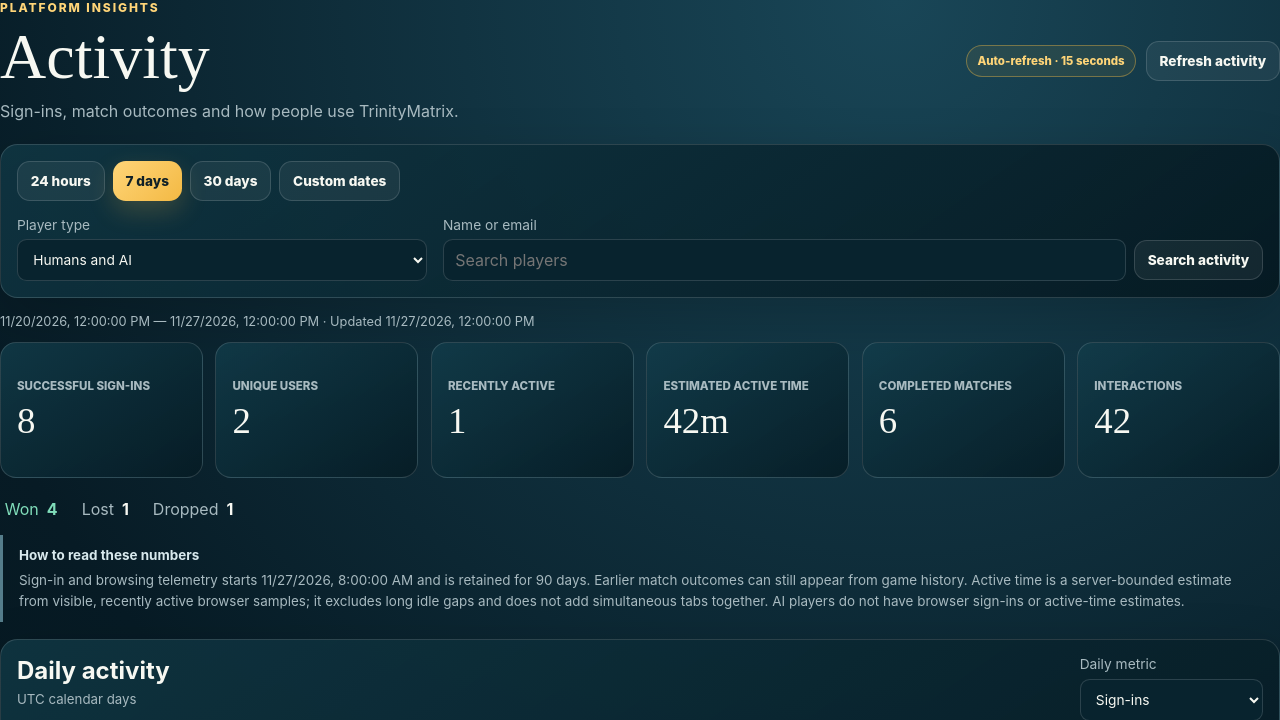
Test: administrator Activity panel › clears previously visible activity if administrator access expires
Click the button "Refresh activity" at (1213,61), box [1146,41,1279,81]
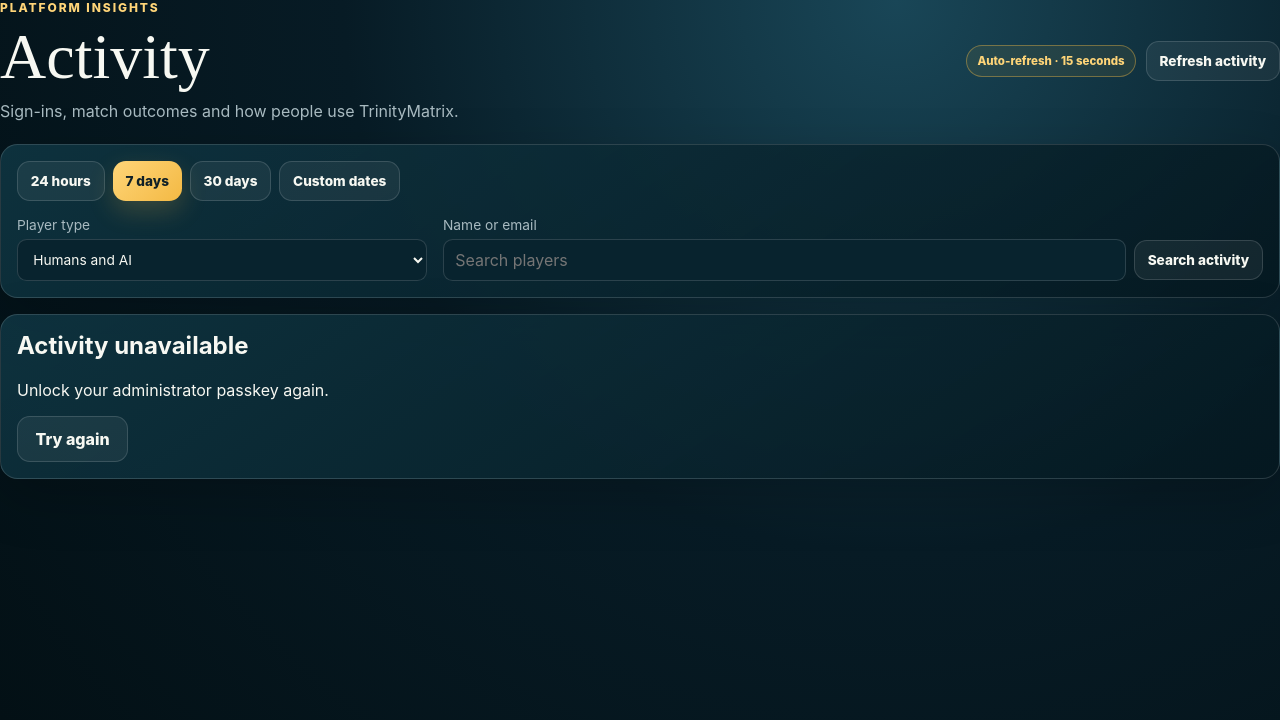
Expected: the message shows "Unlock your administrator passkey again.", [17,380,329,400]
